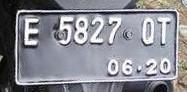clone-license-plate: (13, 8, 179, 82)
